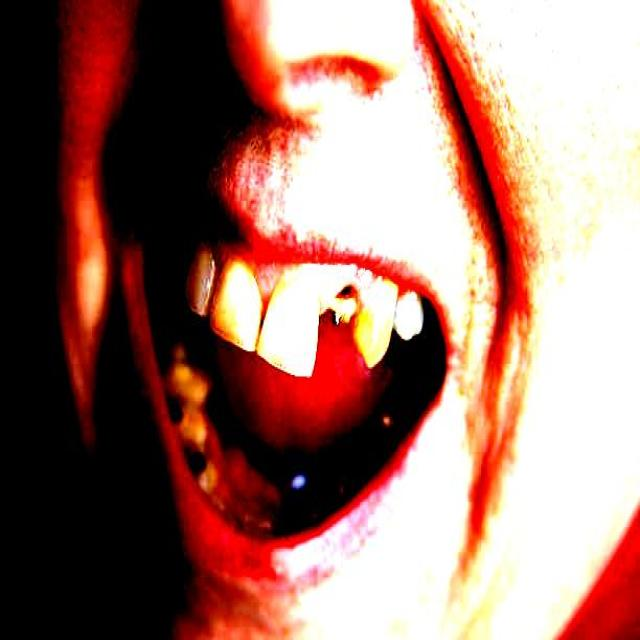caries: (154, 373, 200, 448), (316, 281, 366, 343), (174, 434, 218, 498)
